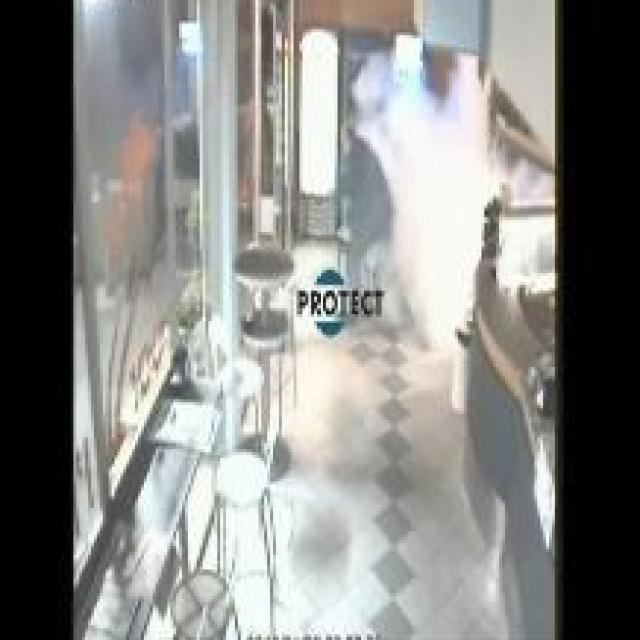fire: (351, 46, 492, 352)
